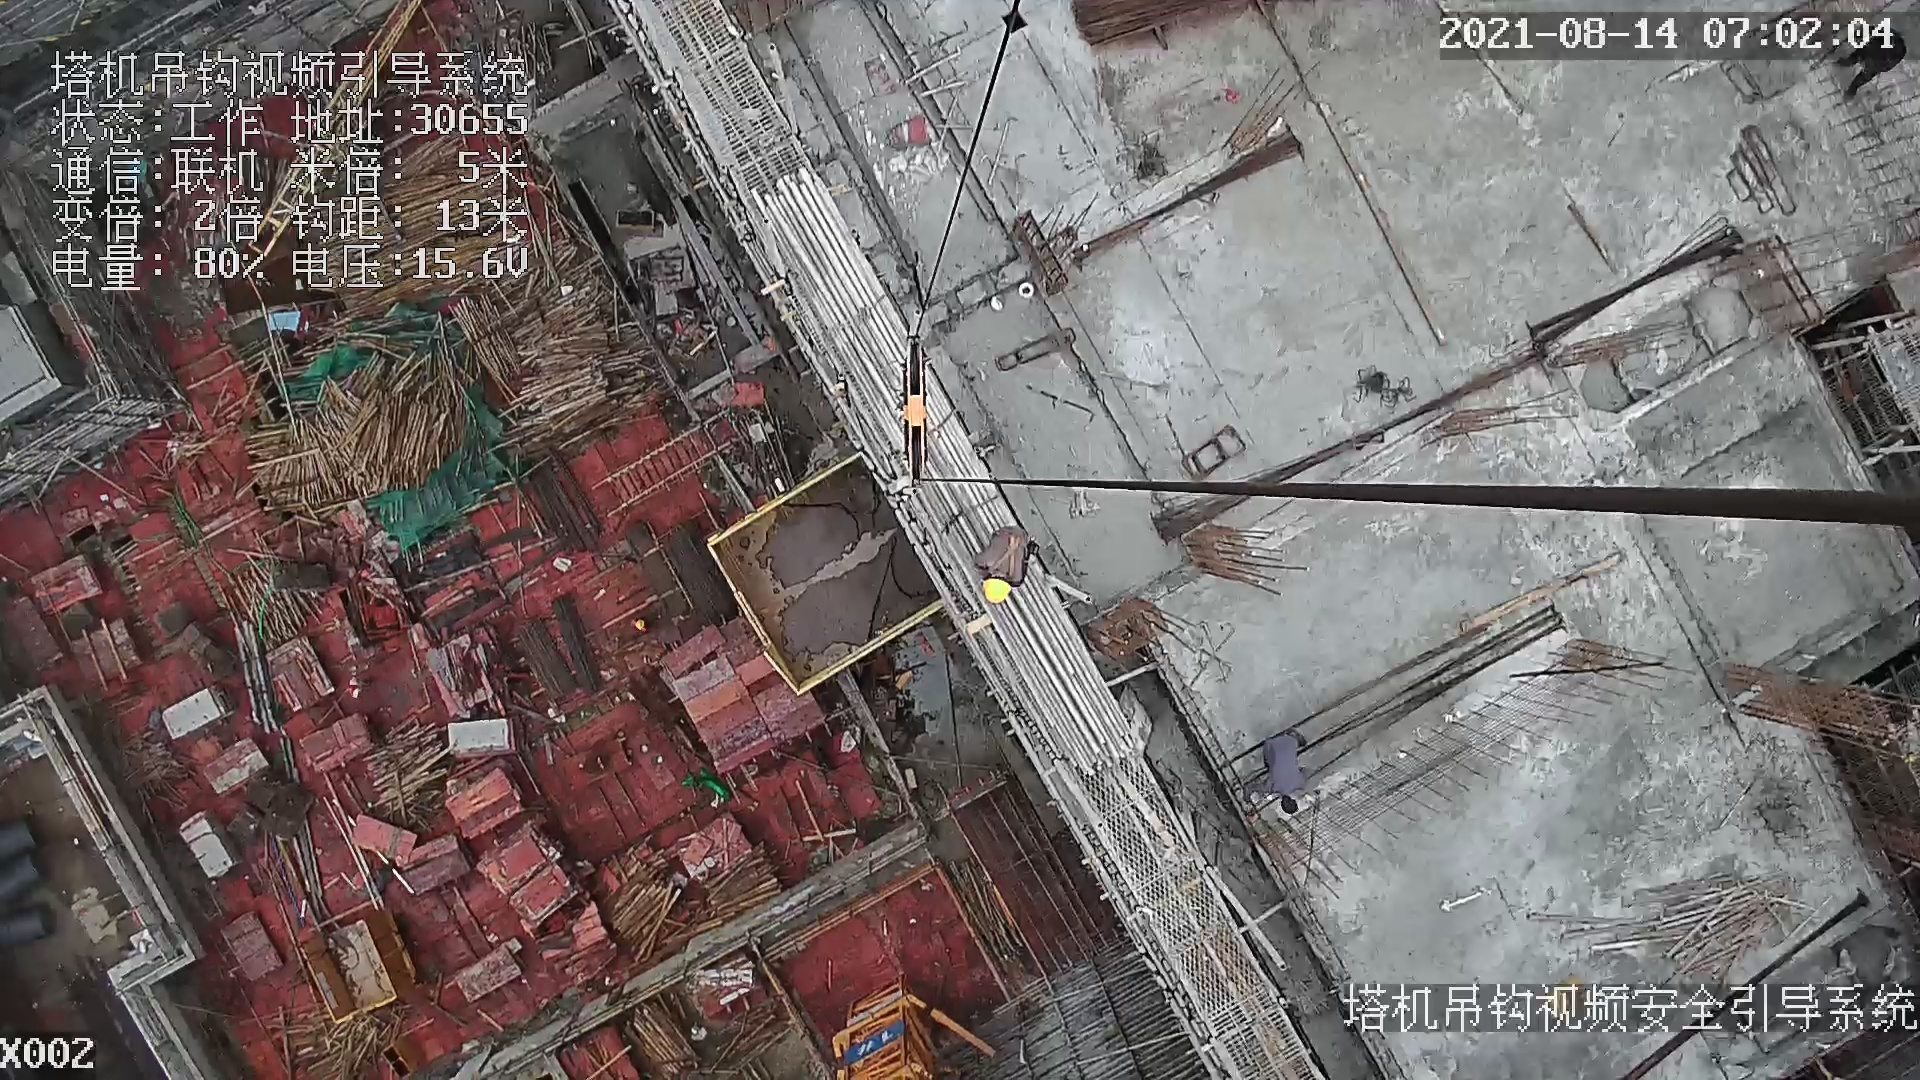helmet: (976, 576, 1018, 604)
hook: (890, 333, 936, 491)
person: (1241, 728, 1313, 824), (973, 530, 1031, 606)
